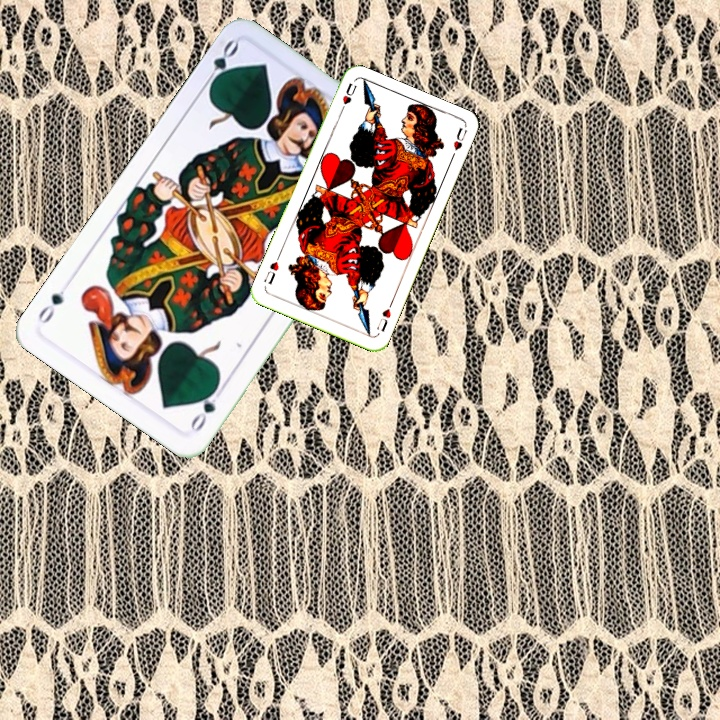GO: (199, 36, 241, 92), (186, 381, 227, 435)
HU: (335, 79, 359, 117), (373, 298, 395, 334)
